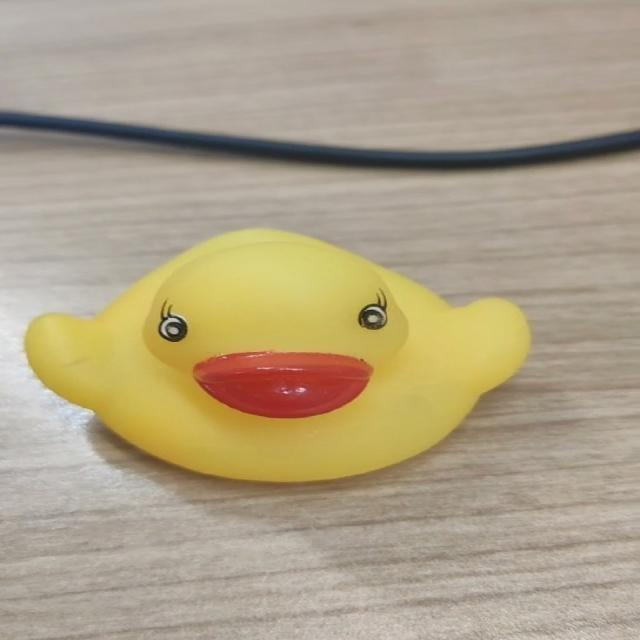rubber-duck: (24, 228, 528, 480)
